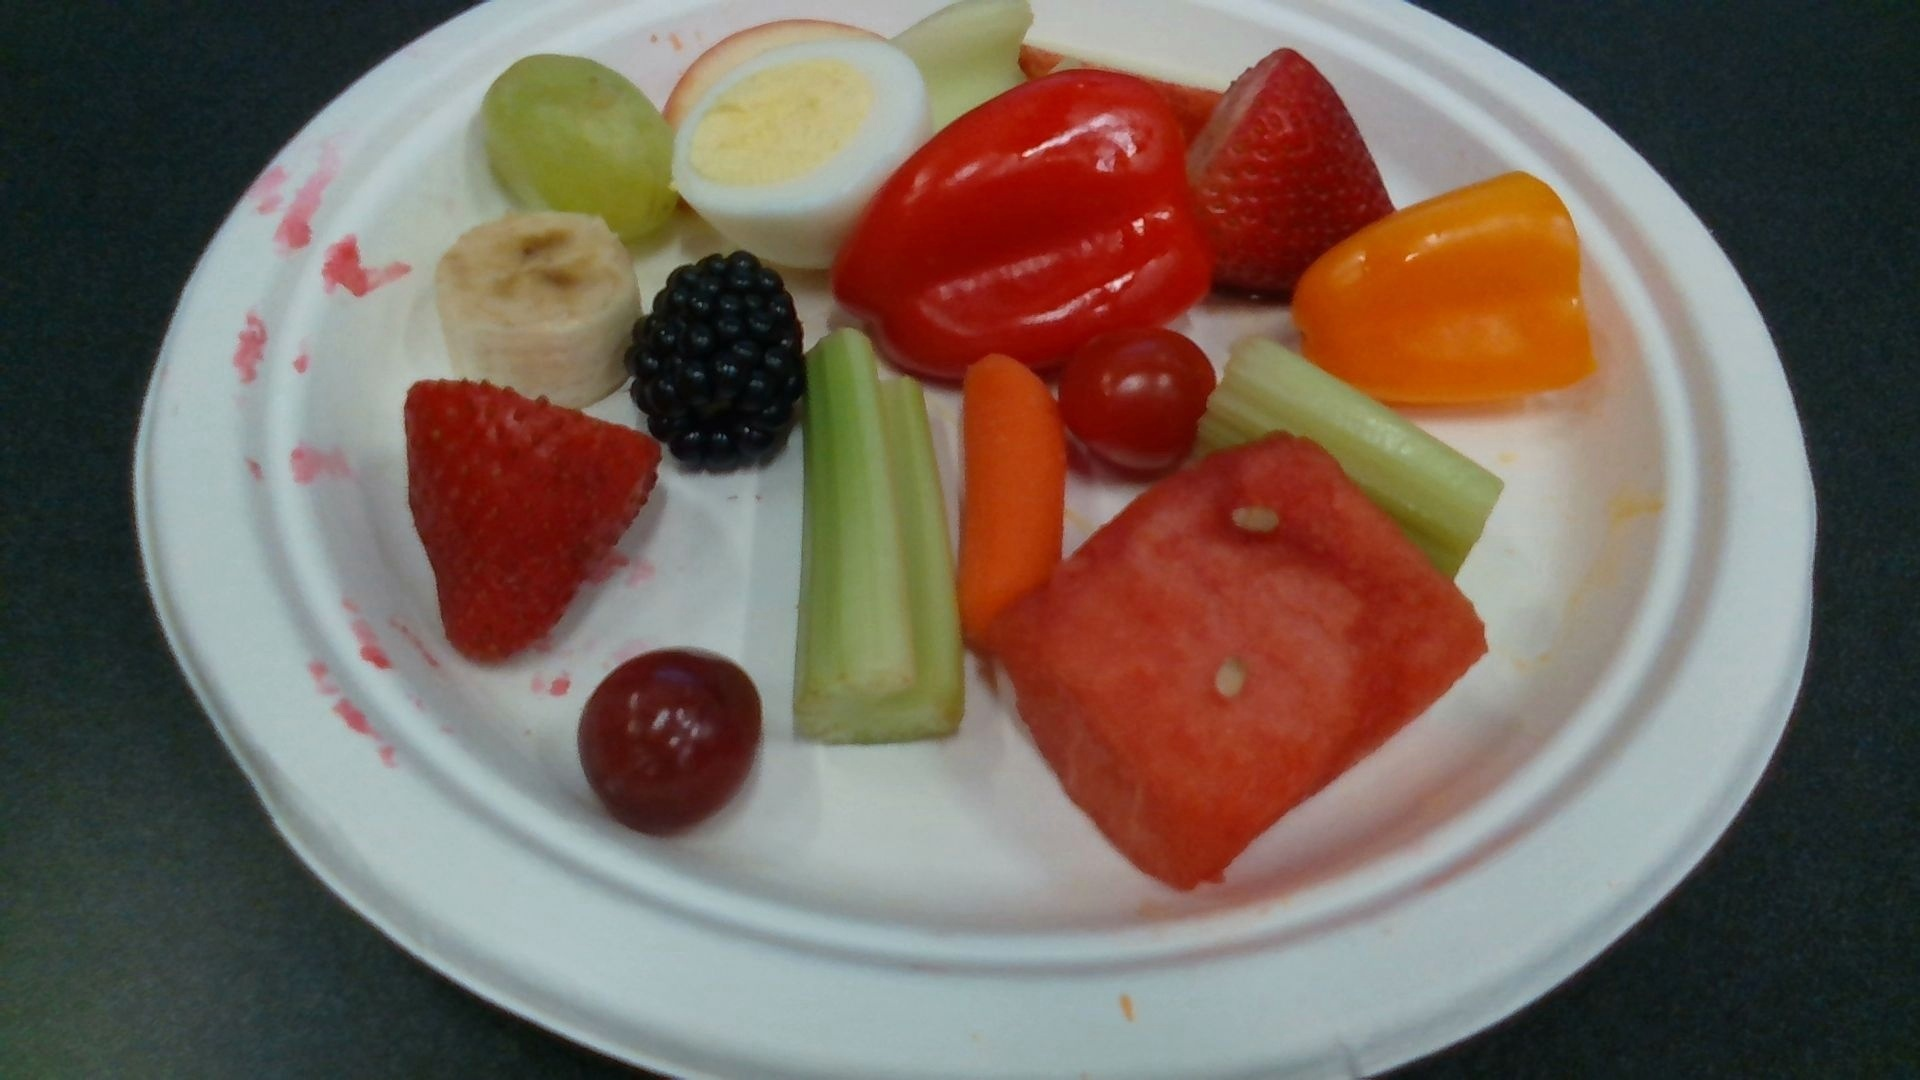banana: (436, 204, 629, 400)
bell_pepper: (829, 70, 1217, 382), (1295, 170, 1590, 410)
blackberry: (625, 253, 804, 476)
carrot: (960, 353, 1062, 644)
celery: (1200, 338, 1497, 583), (799, 330, 963, 742)
cherry_tomato: (1067, 331, 1211, 468)
egg: (670, 41, 928, 268)
grape_green: (480, 55, 673, 235)
grape_purple: (578, 653, 762, 835)
melon: (990, 435, 1484, 886)
strawberry: (404, 376, 657, 661), (1187, 50, 1396, 290)
